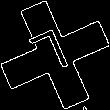L_SE: (31, 25, 79, 85)
